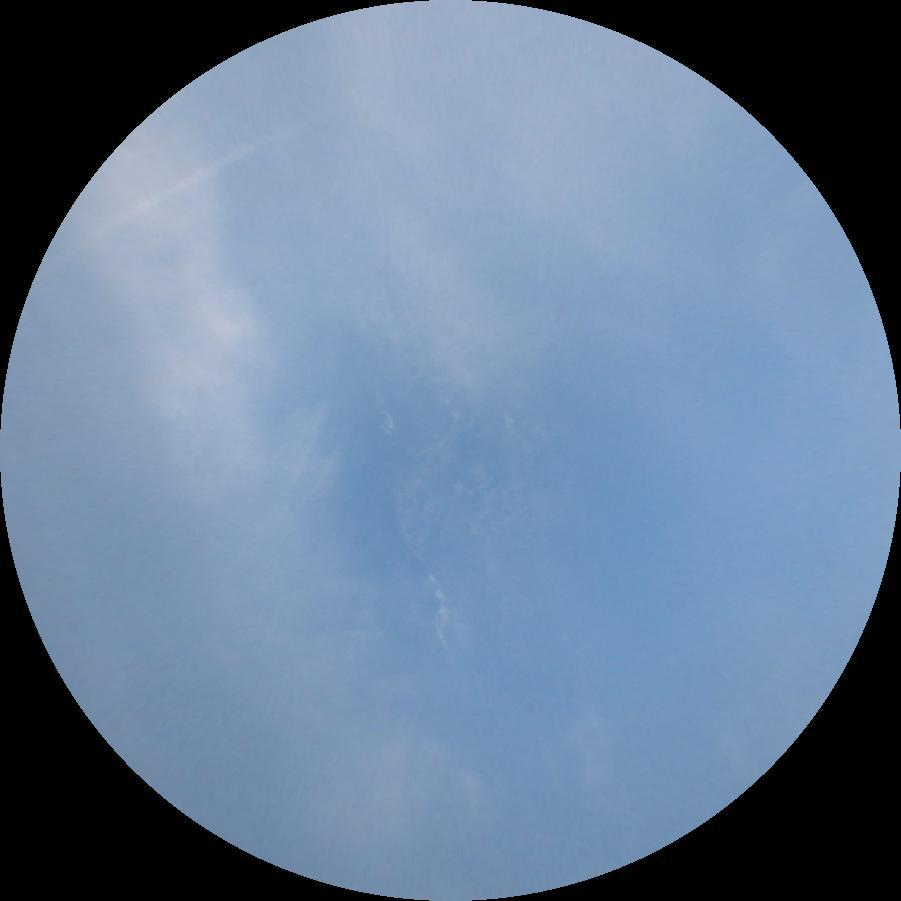contrail veryold: (79, 103, 322, 247)
